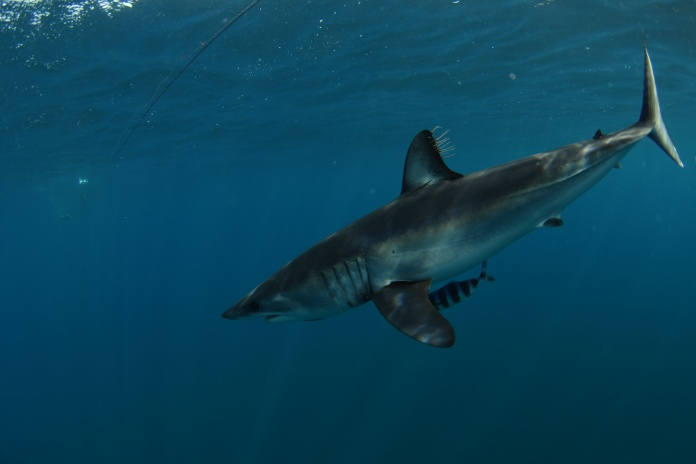Mako: (214, 38, 690, 353)
